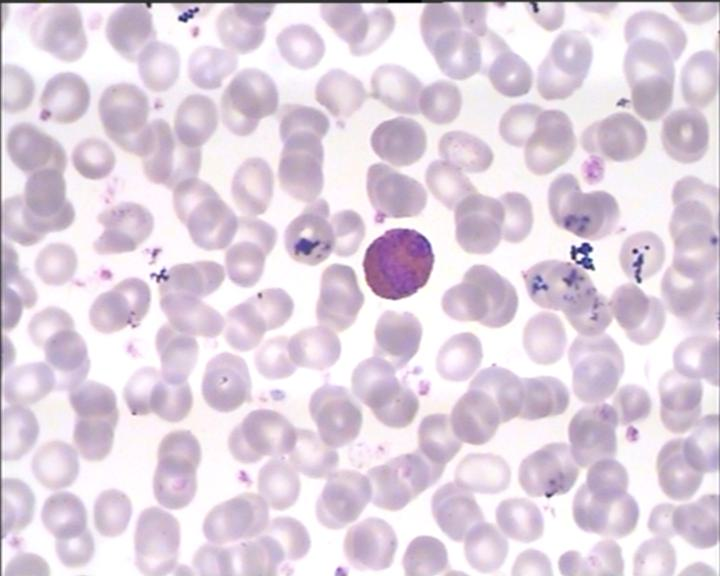eosi: (358, 223, 436, 300)
